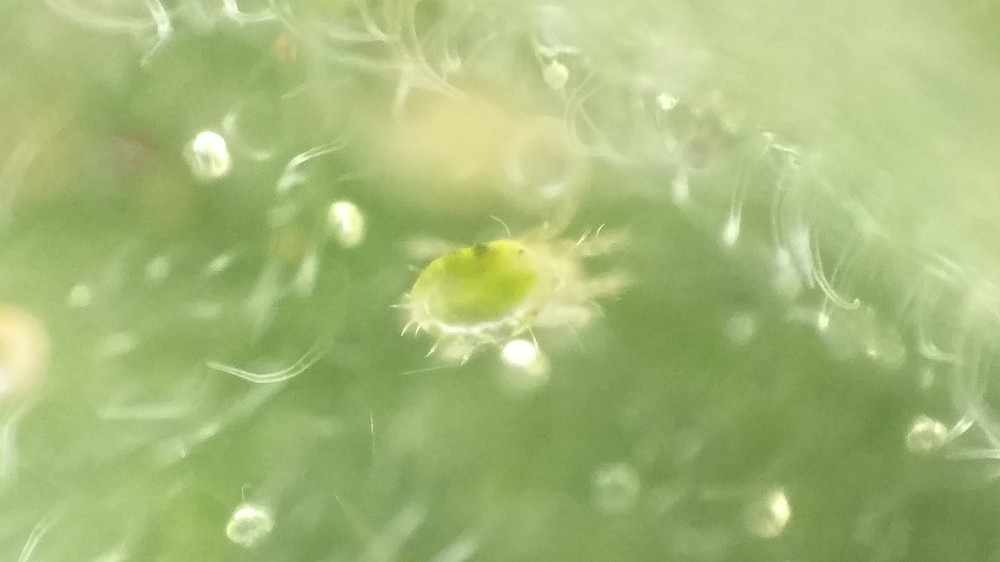Aracnido Rojo: (395, 209, 655, 358)
